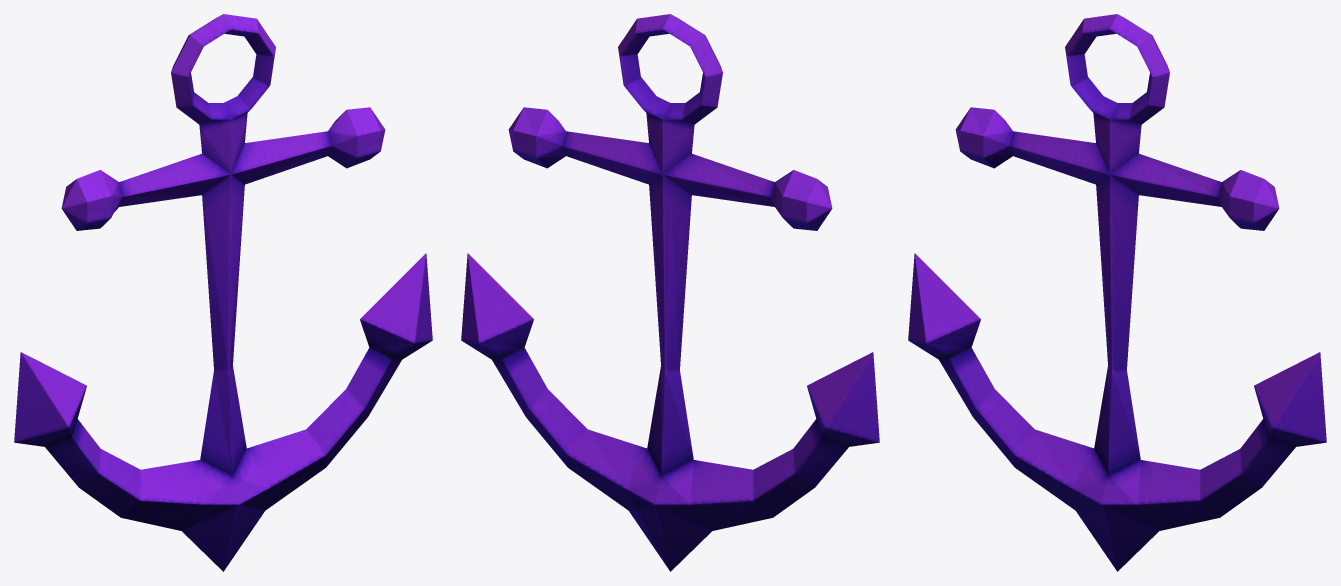
Rendered from effect_haidaonvhuang_atk08_bullet_dongzuo.fbx.
3 renders of one model, left to right at view 1: azimuth 30°, elevation 25°; view 2: azimuth 150°, elevation 25°; view 3: azimuth 330°, elevation 25°, orthographic.
Visible parts, largest first — view 1: effect_hdvw_chuanmao; view 2: effect_hdvw_chuanmao; view 3: effect_hdvw_chuanmao.
Part boxes in pixels (bbox=[...]): effect_hdvw_chuanmao: bbox=[14, 14, 432, 571]; effect_hdvw_chuanmao: bbox=[461, 14, 879, 571]; effect_hdvw_chuanmao: bbox=[908, 14, 1326, 571].
Size of the model in its own units: 1.89 by 2.41 by 0.2882.
